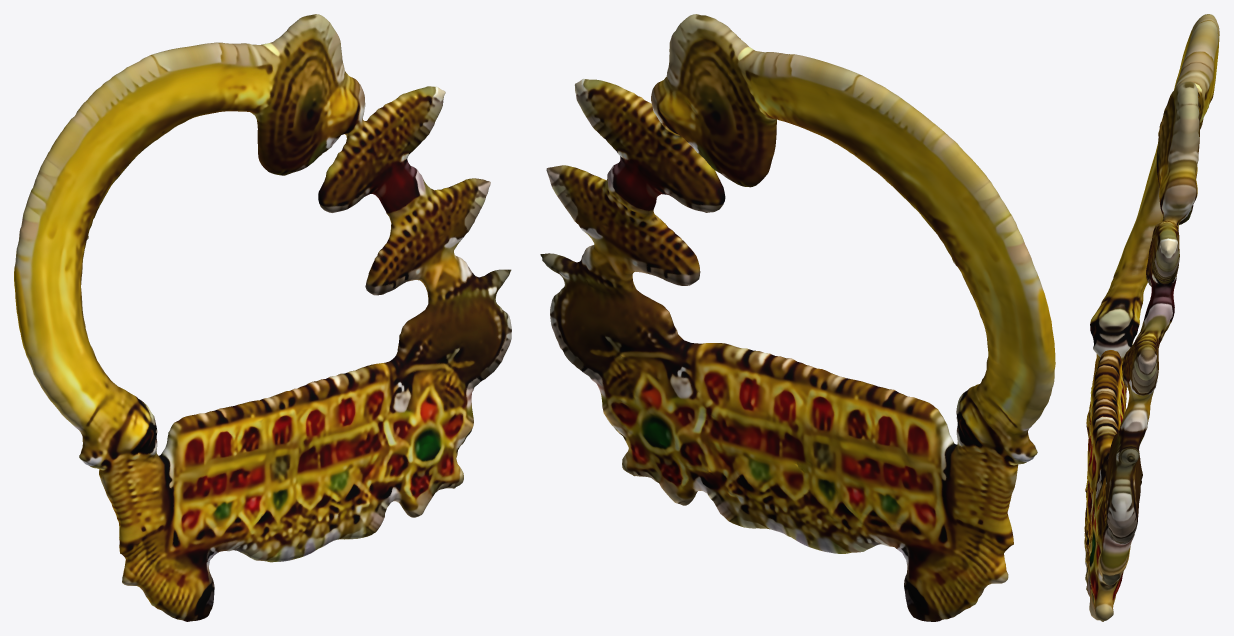
Rendered from kfl-2282.glb.
3 renders of one model, left to right at view 1: azimuth 30°, elevation 25°; view 2: azimuth 150°, elevation 25°; view 3: azimuth 270°, elevation 25°, orthographic. The views are drawn at different scales.
Visible parts, largest first — view 1: kfl-2282; view 2: kfl-2282; view 3: kfl-2282.
Part boxes in pixels (x1,y1,x2,y2): kfl-2282: [14, 14, 511, 621]; kfl-2282: [540, 14, 1055, 621]; kfl-2282: [1084, 14, 1219, 621].
Size of the model in its own units: 0.9173 by 0.9865 by 0.2182.
Materials: 1 (1 with a texture image).
